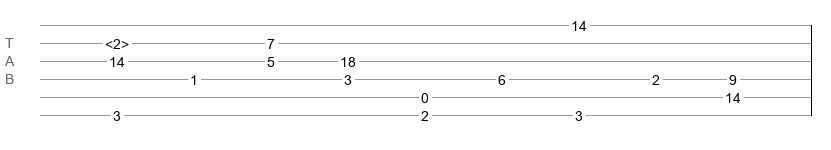0: (421, 90, 429, 100)
1: (190, 72, 198, 82)
14: (109, 54, 125, 64), (571, 18, 587, 28), (725, 90, 741, 100)
18: (340, 54, 356, 64)
2: (421, 108, 429, 118), (652, 72, 660, 82)
3: (113, 108, 121, 118), (344, 72, 352, 82), (575, 108, 583, 118)
5: (267, 54, 275, 64)
6: (498, 72, 506, 82)
7: (267, 36, 275, 46)
9: (729, 72, 737, 82)
harmonic: (105, 36, 129, 46)
